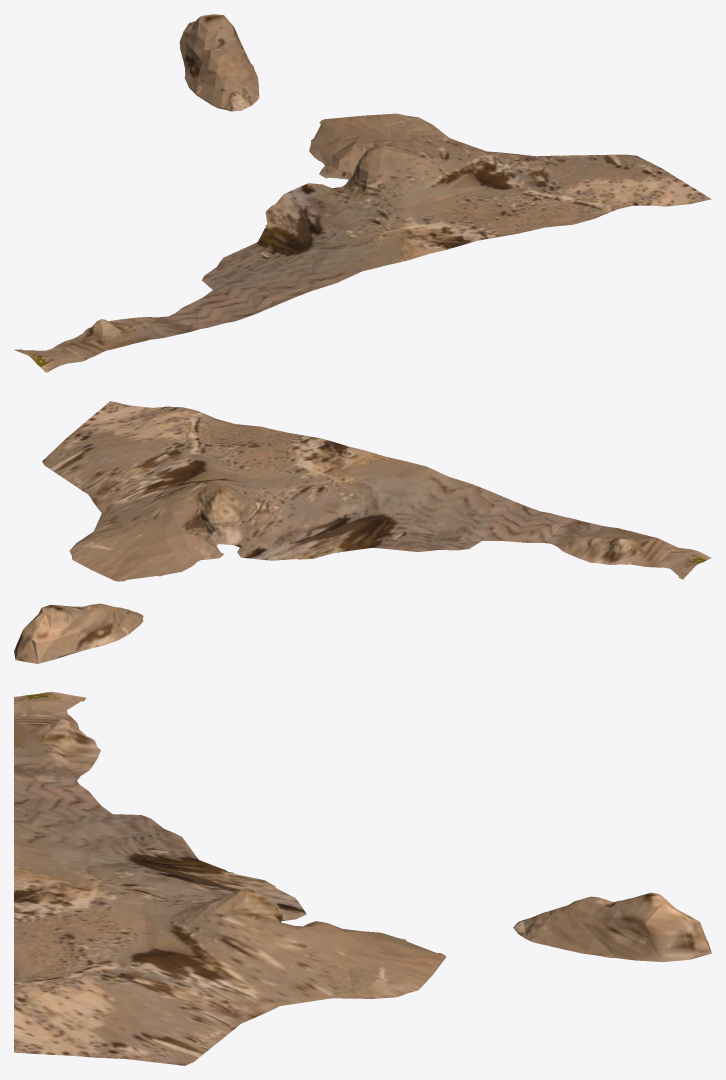
3 views of the same model, one above another, from view 1: azimuth 30°, elevation 25°; view 2: azimuth 150°, elevation 25°; view 3: azimuth 270°, elevation 25° (orthographic). The views are drawn at different scales.
Bounding box in the file's own units: 2.09 × 0.134 × 1.67.
Materials: 1 (1 with a texture image).
